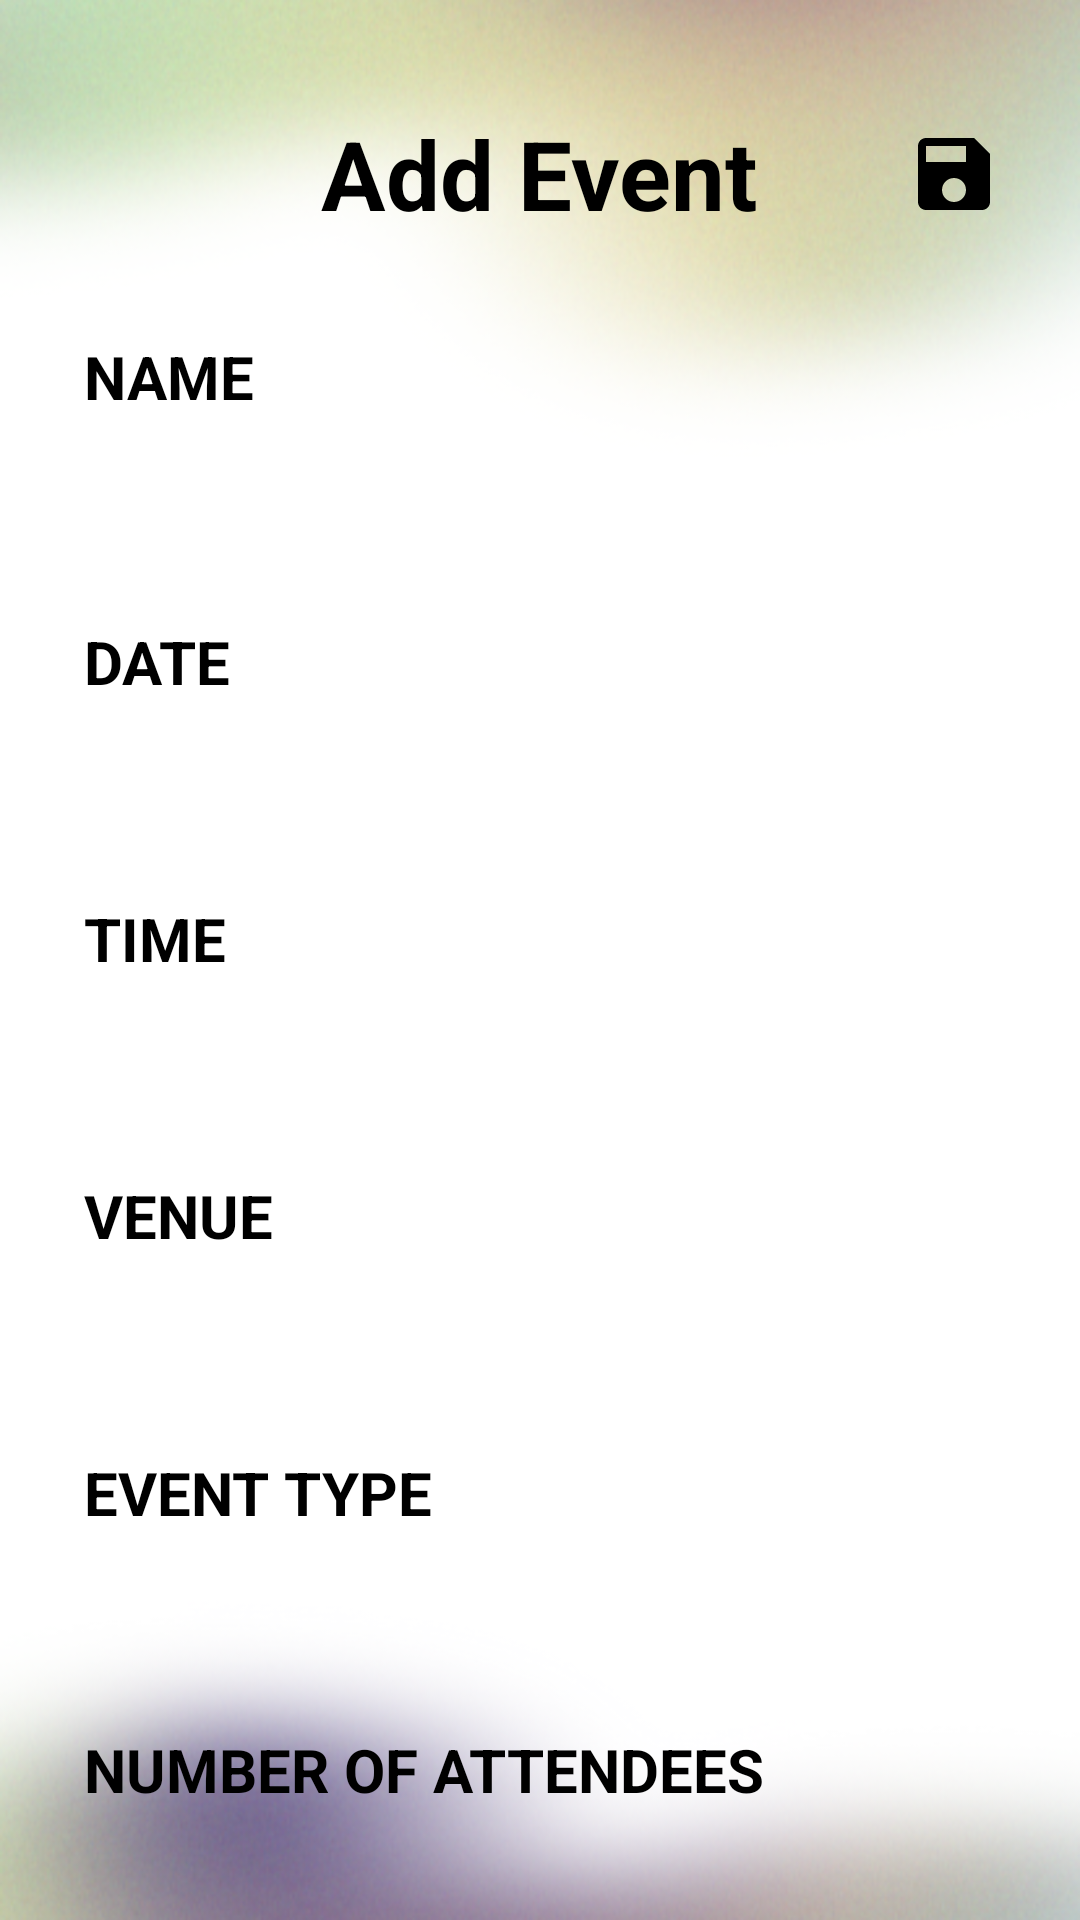

Screen size 1080px x 1920px. Icon name, then its box in pixels as (x1, y1, x2, y2):
done: (918, 138, 1008, 211)
